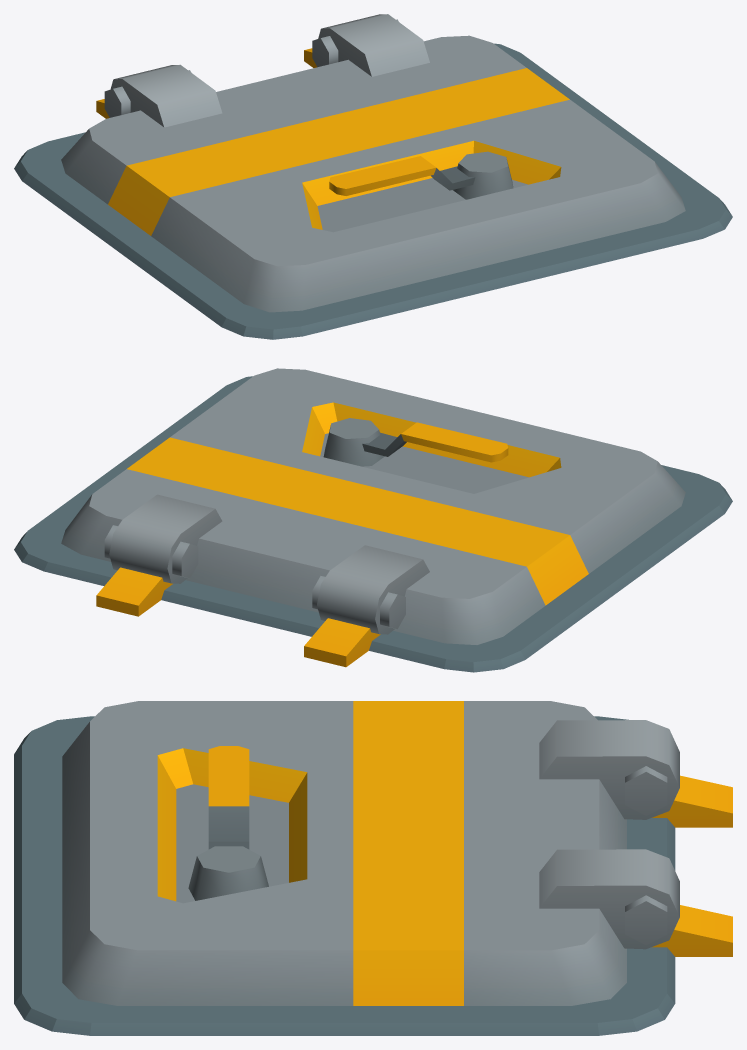
File: Hatch_004_door_001.glb
The picture shows the model from 3 angles, top to bottom: view 1: azimuth 30°, elevation 25°; view 2: azimuth 150°, elevation 25°; view 3: azimuth 270°, elevation 25°; orthographic projection. The views are drawn at different scales.
Visible parts, largest first — view 1: Hatch_Cap_04.001, Hatch_004_door_001; view 2: Hatch_Cap_04.001, Hatch_004_door_001; view 3: Hatch_Cap_04.001, Hatch_004_door_001.
Part boxes in pixels (bbox=[...]): Hatch_Cap_04.001: bbox=[61, 14, 685, 312]; Hatch_004_door_001: bbox=[14, 43, 732, 339]; Hatch_Cap_04.001: bbox=[61, 368, 685, 644]; Hatch_004_door_001: bbox=[14, 376, 732, 672]; Hatch_Cap_04.001: bbox=[62, 701, 679, 1005]; Hatch_004_door_001: bbox=[14, 716, 732, 1035].
Size of the model in its own units: 0.92 by 0.1091 by 0.8916.
Materials: 1 (1 with a texture image).
